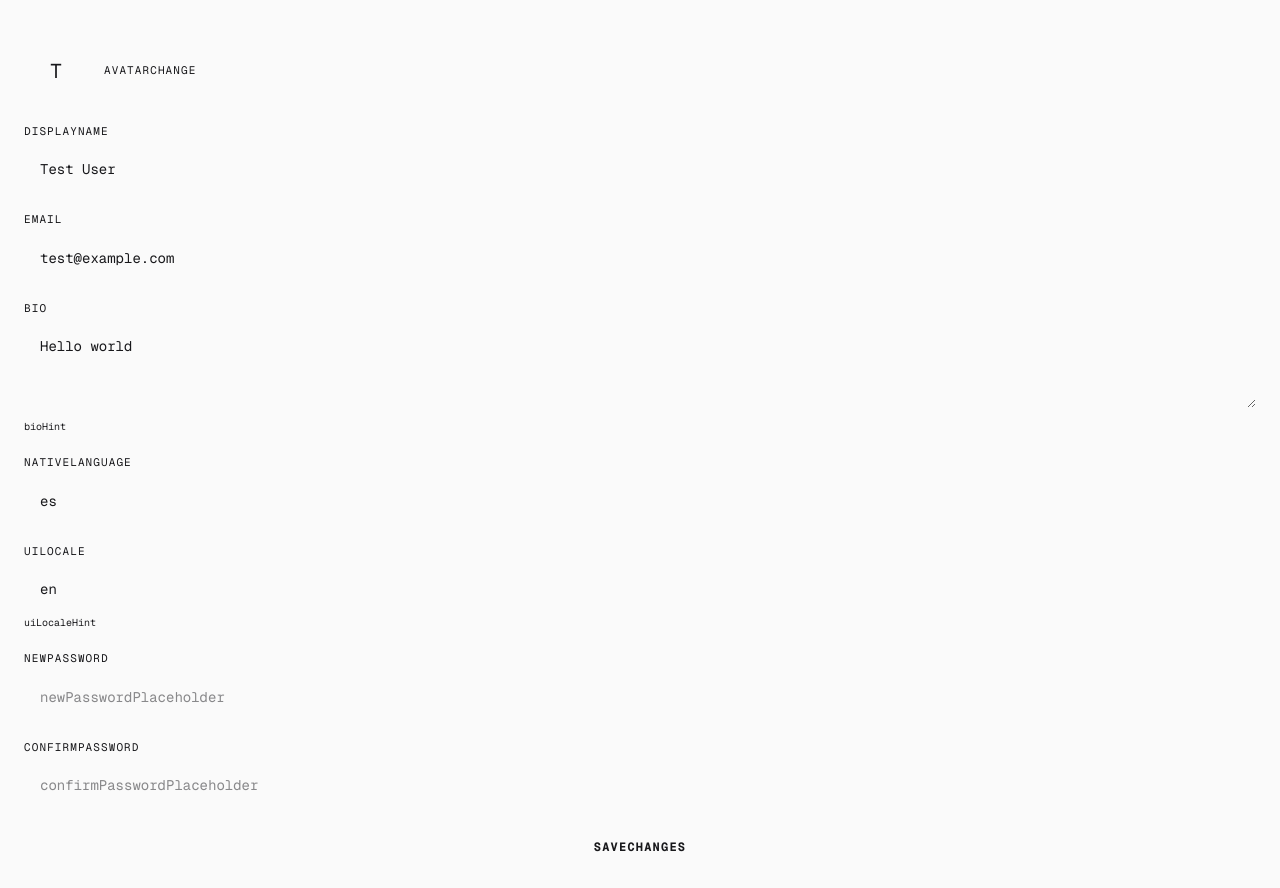
ProfileSection › shows saving text while save is in progress
This screenshot has width=1280, height=888.
(page scrolled)
Click the button "saveChanges" at (640, 847), box x1=24 y1=827 x2=1256 y2=867
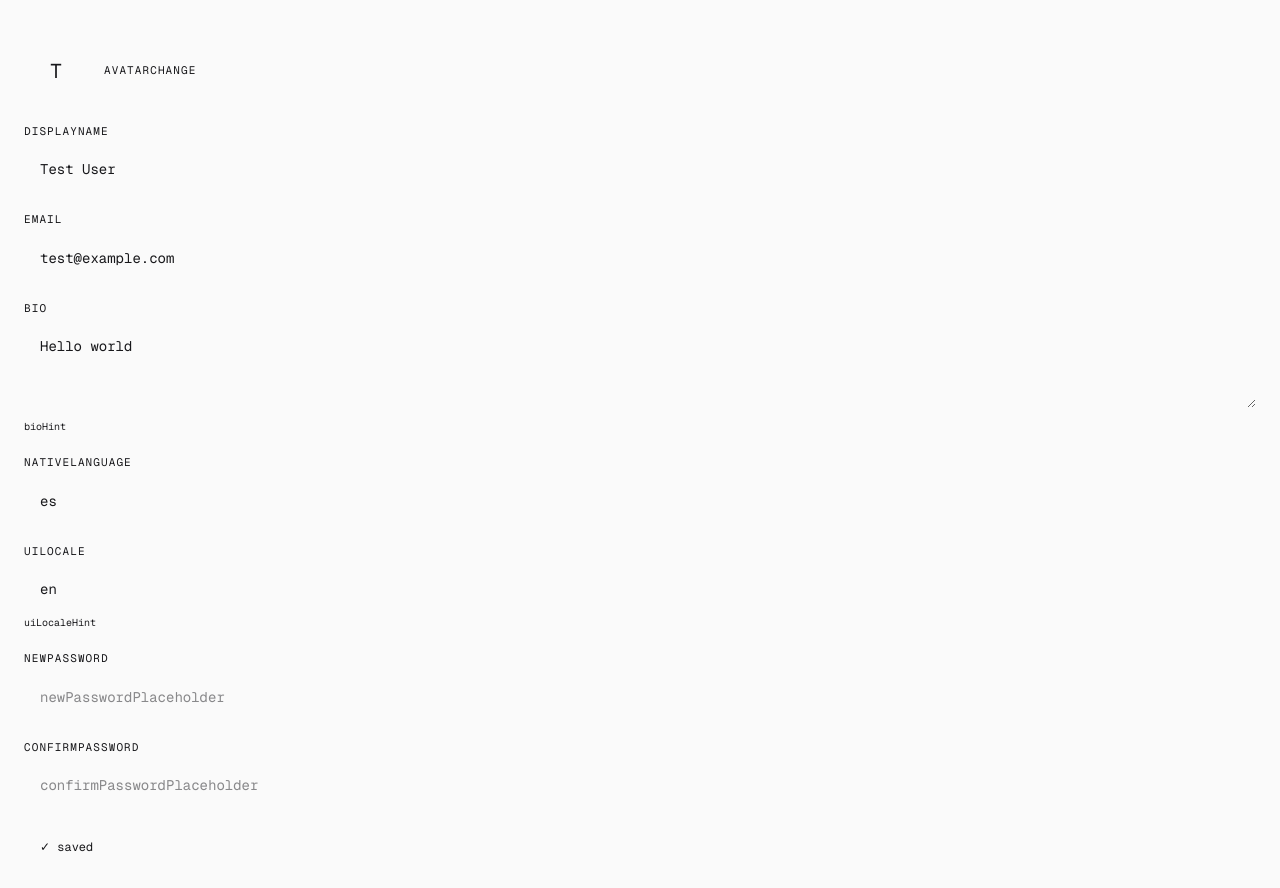
Now the text "✓ saved" is shown, box x1=40 y1=839 x2=93 y2=855
